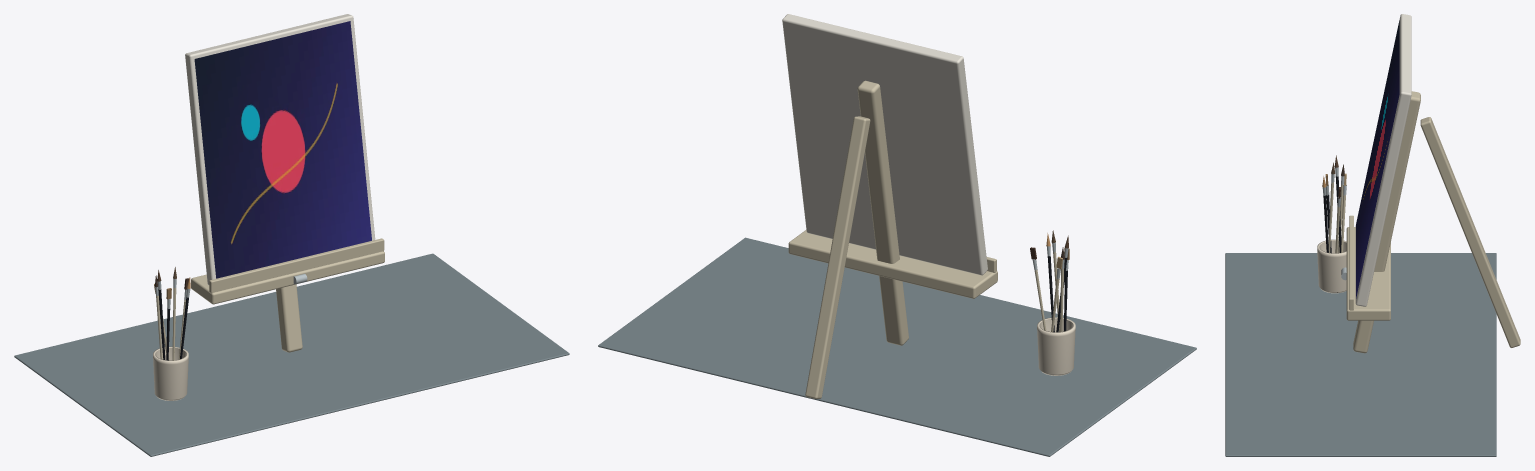
Rendered from atelier-artist-set-easel-chalk.glb.
The picture shows the model from 3 angles, left to right: view 1: azimuth 30°, elevation 25°; view 2: azimuth 150°, elevation 25°; view 3: azimuth 270°, elevation 25°; orthographic projection. The views are drawn at different scales.
Parts seen in each view (by area): view 1: object 1, object 7, Artist canvas stretcher, object 4, Artist retaining lip, object 9, object 2; view 2: object 1, Artist canvas stretcher, object 2, object 3, object 4, object 9; view 3: object 1, Artist canvas stretcher, object 7, object 3, object 2, object 4, object 9, Artist retaining lip.
Part boxes in pixels (x1,y1,x2,y2): object 1: (14, 253, 569, 456); object 7: (194, 21, 371, 278); Artist canvas stretcher: (185, 14, 375, 285); object 4: (191, 251, 384, 304); Artist retaining lip: (209, 238, 384, 293); object 9: (153, 346, 188, 400); object 2: (276, 284, 302, 352); object 1: (598, 237, 1196, 456); Artist canvas stretcher: (782, 14, 987, 275); object 2: (857, 80, 908, 345); object 3: (805, 116, 870, 398); object 4: (788, 230, 997, 298); object 9: (1037, 317, 1075, 375); object 1: (1225, 253, 1496, 456); Artist canvas stretcher: (1355, 14, 1411, 306); object 7: (1356, 20, 1399, 298); object 3: (1420, 117, 1520, 347); object 2: (1353, 91, 1420, 353); object 4: (1346, 227, 1390, 320); object 9: (1317, 239, 1346, 293); Artist retaining lip: (1349, 215, 1353, 310).
Size of the model in its own units: 0.92 by 0.6408 by 0.5659.
14 materials, 1 textured.
